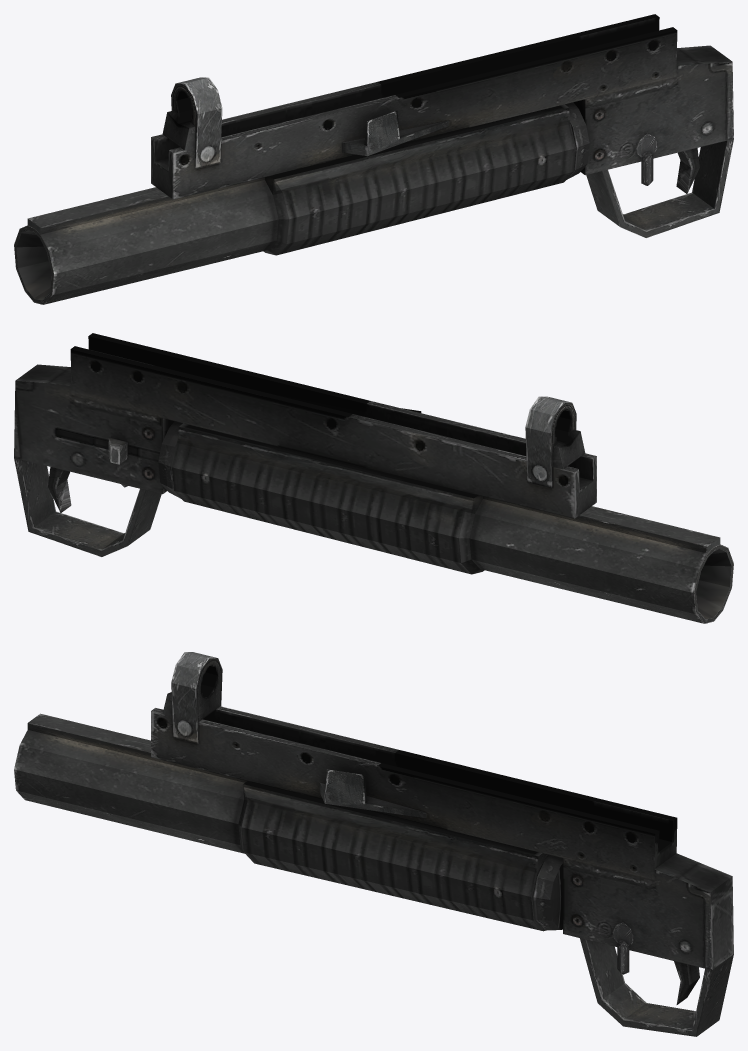
File: GrenadeLauncher.fbx
3 renders of one model, top to bottom at view 1: azimuth 30°, elevation 25°; view 2: azimuth 150°, elevation 25°; view 3: azimuth 330°, elevation 25°, orthographic.
Parts seen in each view (by area): view 1: GrenadeLauncher, GrenadeLauncherBarrel; view 2: GrenadeLauncher, GrenadeLauncherBarrel; view 3: GrenadeLauncher, GrenadeLauncherBarrel.
Part boxes in pixels (left/top/right/bottom): GrenadeLauncher: left=151, top=14, right=733, bottom=237; GrenadeLauncherBarrel: left=14, top=104, right=575, bottom=304; GrenadeLauncher: left=14, top=333, right=596, bottom=556; GrenadeLauncherBarrel: left=172, top=423, right=733, bottom=623; GrenadeLauncher: left=151, top=652, right=733, bottom=1036; GrenadeLauncherBarrel: left=14, top=713, right=548, bottom=931.
Bounding box in the file's own units: 9.24 × 3.28 × 1.11.
